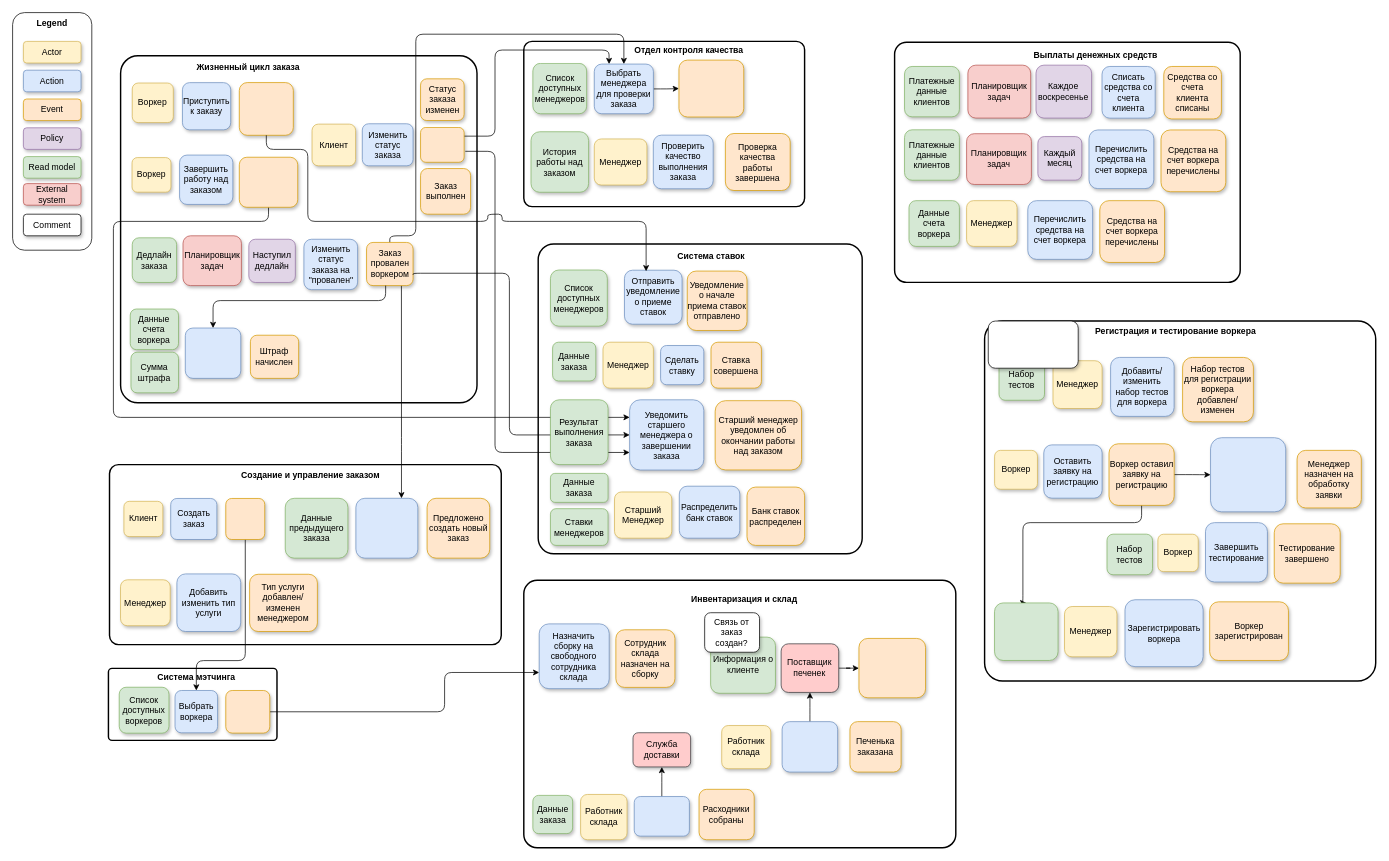
Some shapes in this 1389 by 861 pixel diagram are drawn without their labels. The centre of each missing label's shape, as x and y in pixels:
"Воркер подобран" belongs at pixel 248 712.
"Заказ отменен" belongs at pixel 442 145.
"Заказ создан" belongs at pixel 245 520.
"Заказать печеньку" belongs at pixel 810 747.
"Заявка на регистрацию воркера" belongs at pixel 1026 632.
"Менеджер для проверки заказа выбран" belongs at pixel 711 89.
"Назначить доступного менеджера на обработку новой заявки" belongs at pixel 1248 475.
"Начислить штраф за провал заказа" belongs at pixel 213 353.
"Печенька отправлена на склад" belongs at pixel 892 669.
"Предложить создать новый заказ" belongs at pixel 387 529.
"Работа над заказом завершена" belongs at pixel 269 183.
"Работа над заказом начата" belongs at pixel 267 109.
"Слишком очевидное, удалить после моделей данных" belongs at pixel 1034 345.
"Собрать расходники" belongs at pixel 662 817.
